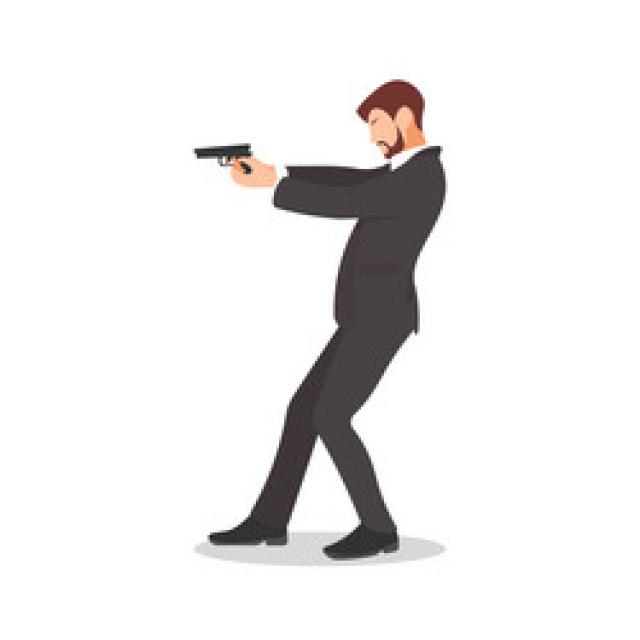HandGun: (190, 136, 256, 178)
